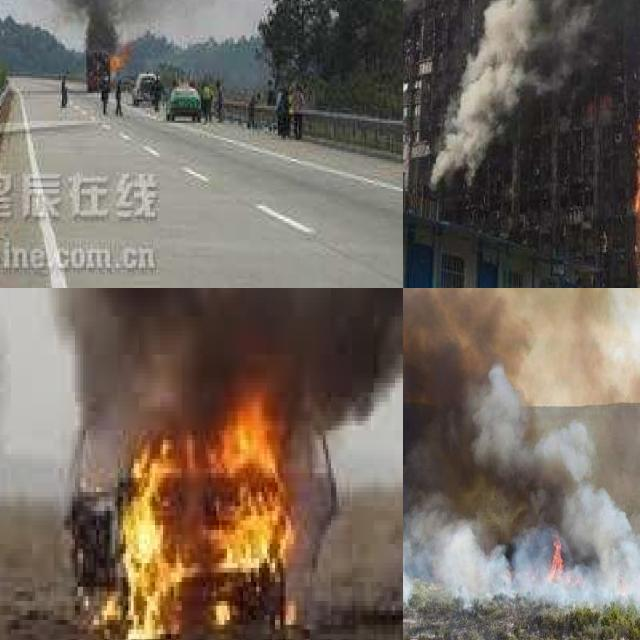fire: (102, 392, 307, 639), (526, 524, 640, 602), (107, 48, 129, 72)
smoke: (403, 288, 640, 599), (40, 288, 403, 444), (427, 0, 604, 189)
